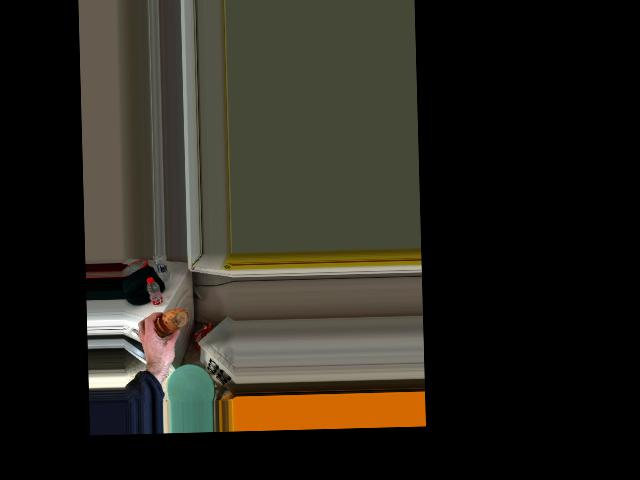sweet_potato: (152, 307, 183, 338)
